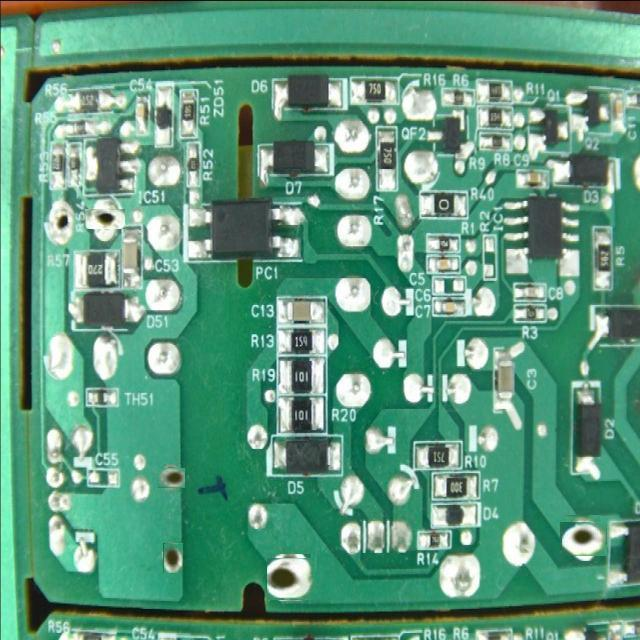damged: (269, 556, 312, 599), (563, 518, 603, 560), (50, 200, 72, 244), (90, 204, 121, 234), (163, 543, 183, 573), (159, 466, 183, 491)
